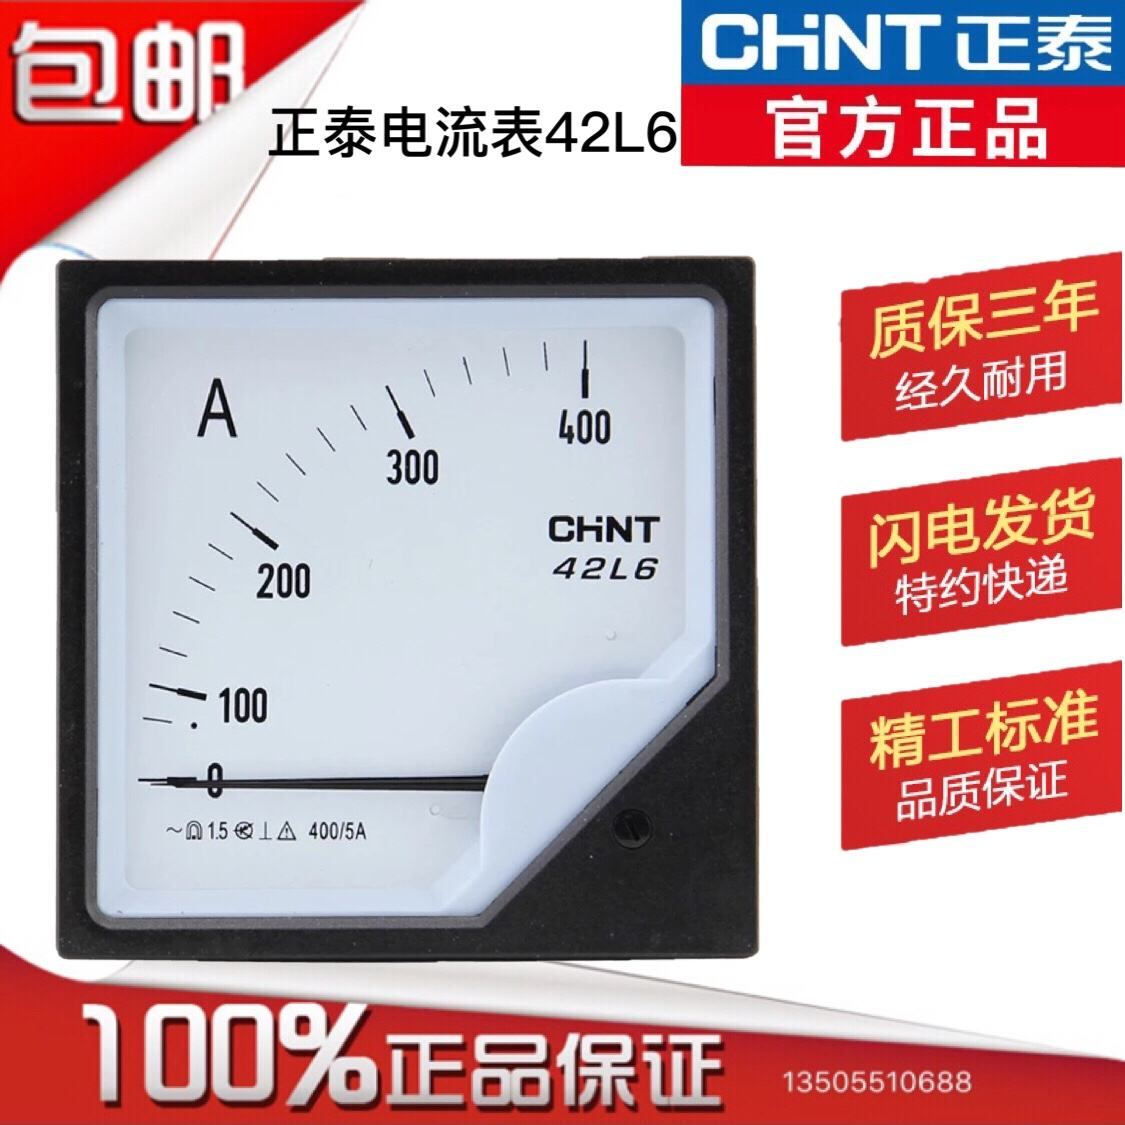pointer: (86, 292, 721, 937)
